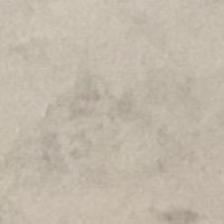Non_Crack: (16, 26, 224, 219)
